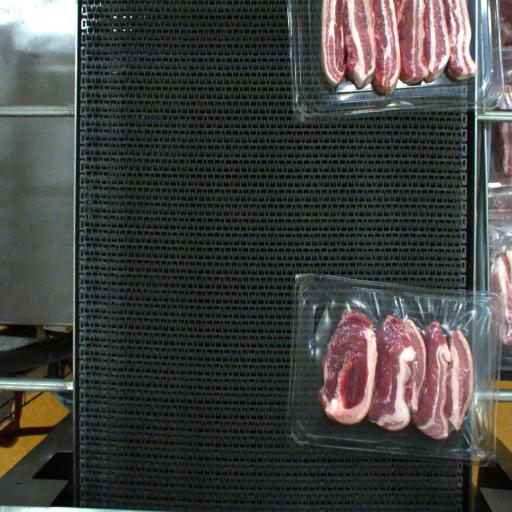unsealed: (305, 301, 488, 426)
